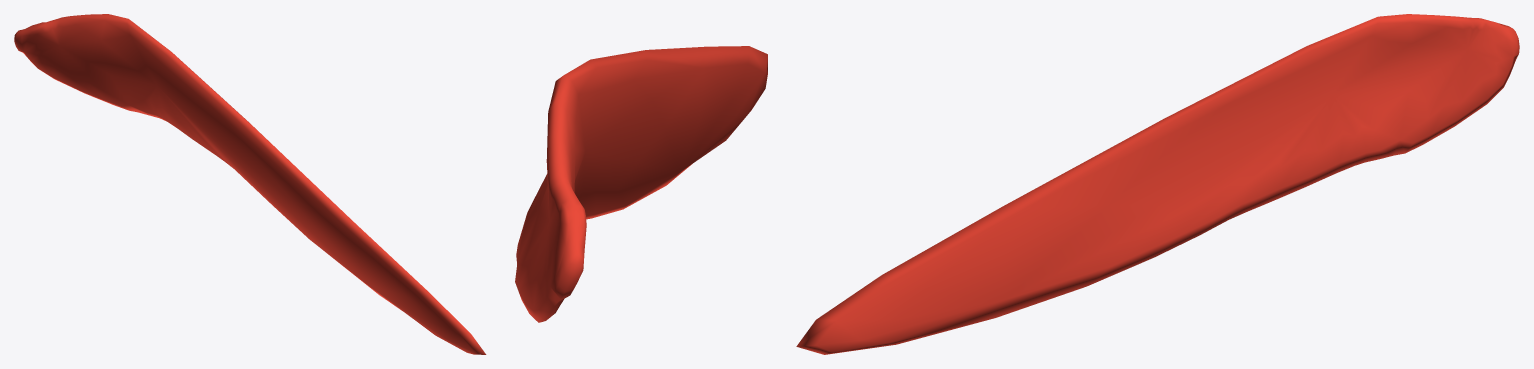
Rendered from Plantar_interossei_4th_metatarsal_left.glb.
3 views of the same model, side by side, from view 1: azimuth 30°, elevation 25°; view 2: azimuth 150°, elevation 25°; view 3: azimuth 270°, elevation 25° (orthographic). The views are drawn at different scales.
Visible parts, largest first — view 1: Plantar_interossei_muscles_on_4th_metatarsal_bone.l_Generate; view 2: Plantar_interossei_muscles_on_4th_metatarsal_bone.l_Generate; view 3: Plantar_interossei_muscles_on_4th_metatarsal_bone.l_Generate.
Boxes of the visible parts, x1,y1,x2,y2 form: Plantar_interossei_muscles_on_4th_metatarsal_bone.l_Generate: [14, 14, 486, 354]; Plantar_interossei_muscles_on_4th_metatarsal_bone.l_Generate: [515, 46, 767, 322]; Plantar_interossei_muscles_on_4th_metatarsal_bone.l_Generate: [796, 14, 1519, 354].
Size of the model in its own units: 0.00877 by 0.00909 by 0.0229.
